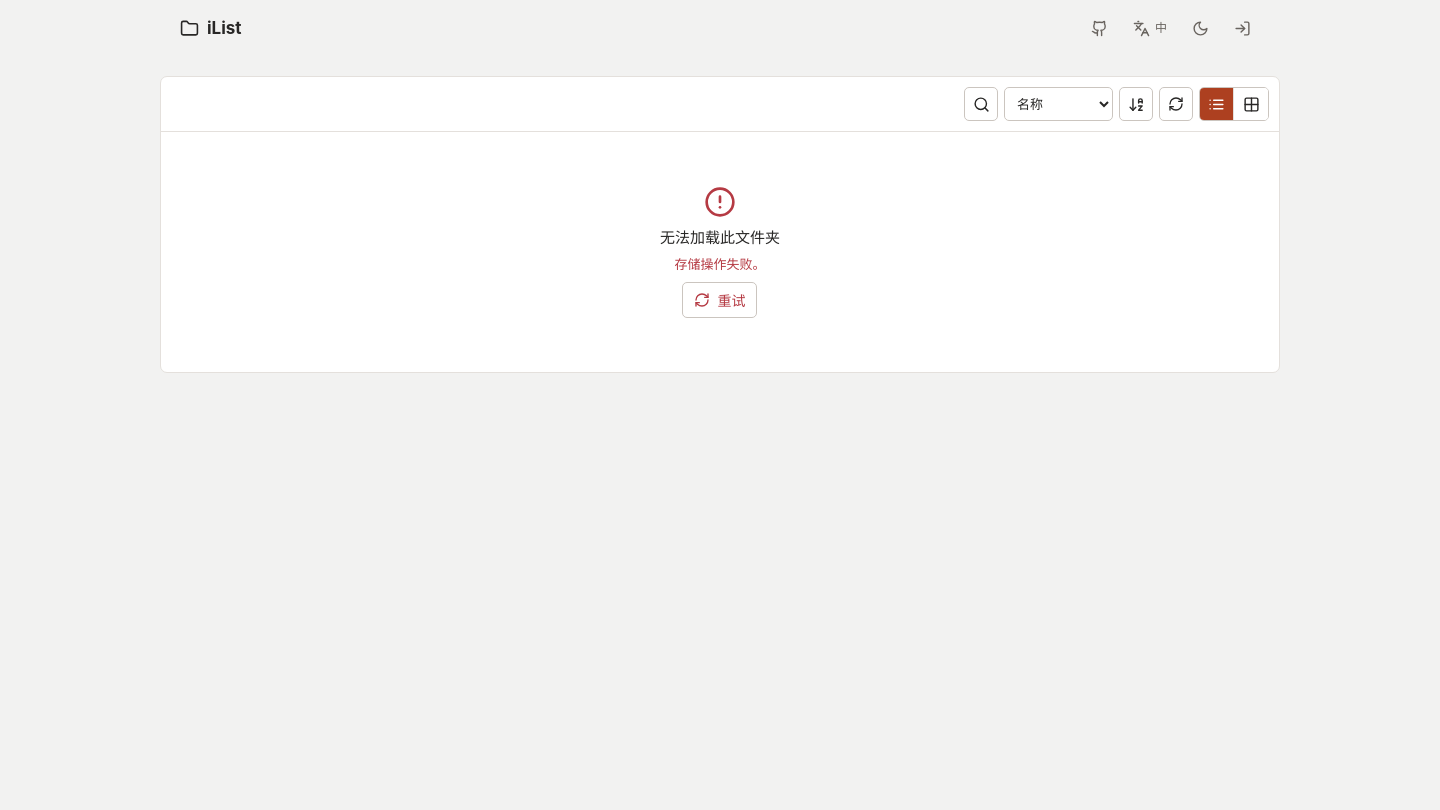
Test: page states and feedback › localizes directory and login API failures without exposing server messages
The width and height of the screenshot is (1440, 810).
Check: the text "存储操作失败。" is shown, box [674,255,766,274]
Click the button named "管理员登录" at (1242, 28), box [1224,10,1260,46]
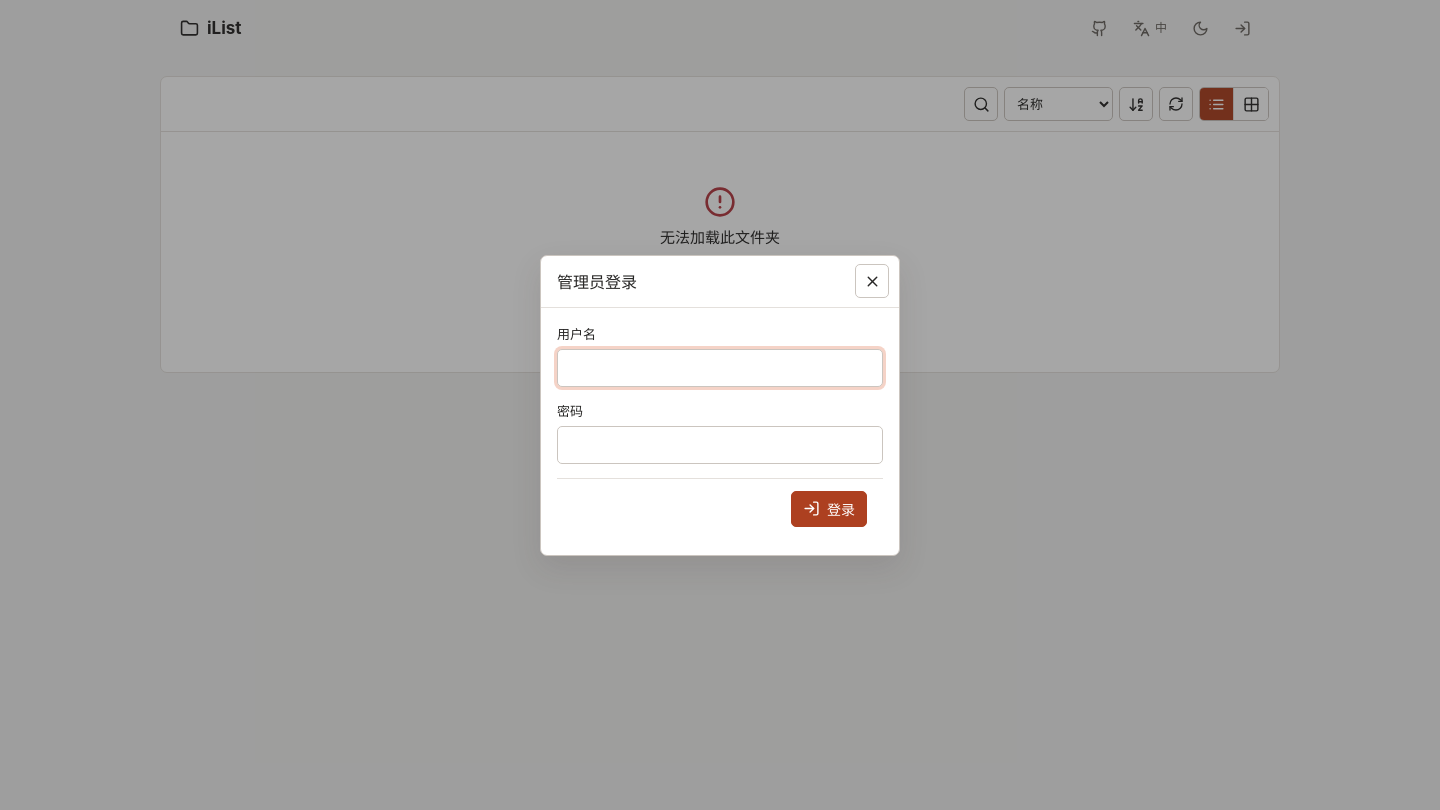
Type "admin" into the field labelled "用户名" at (720, 368), box [557,348,883,386]
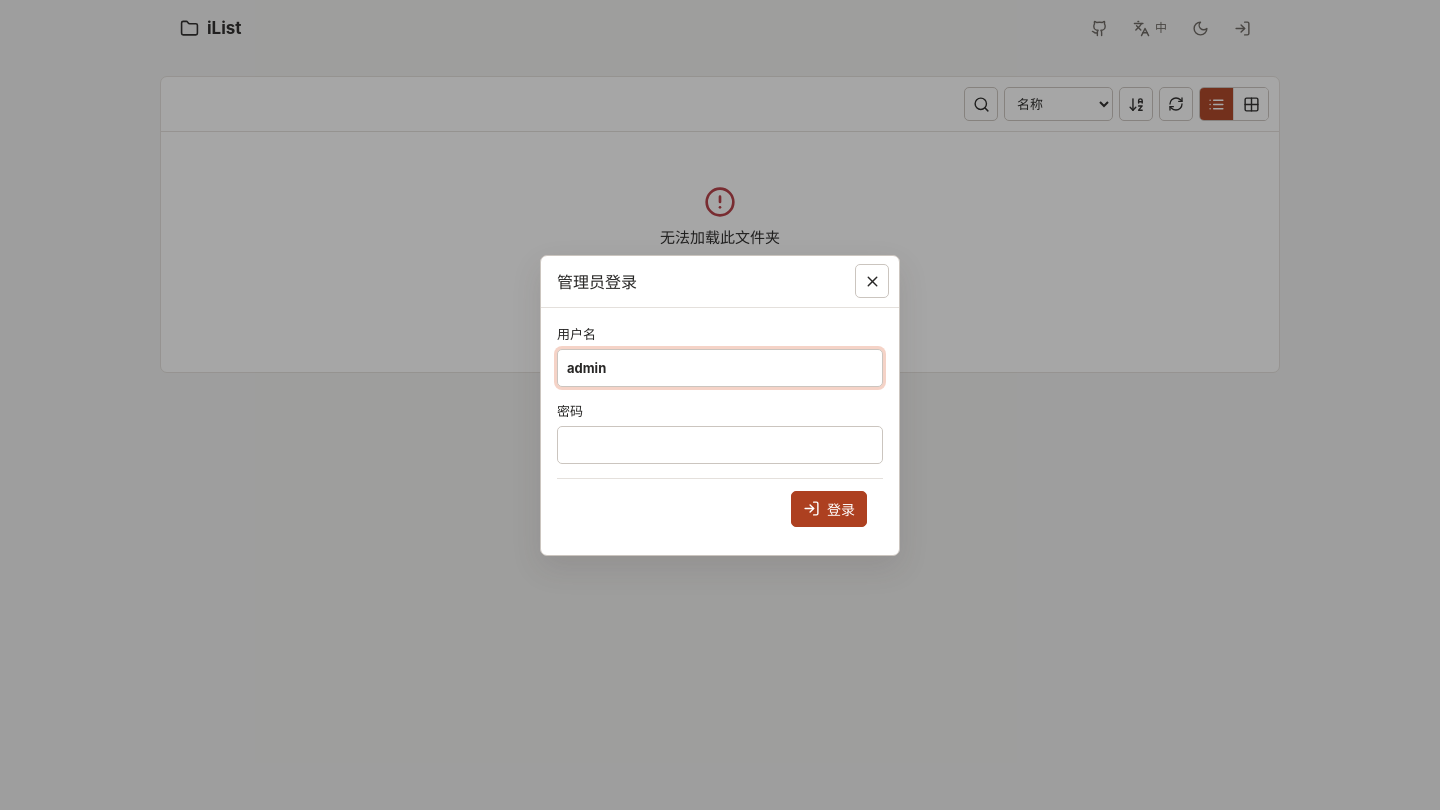
Type "bad" into the password field labelled "密码" at (720, 444), box [557,426,883,464]
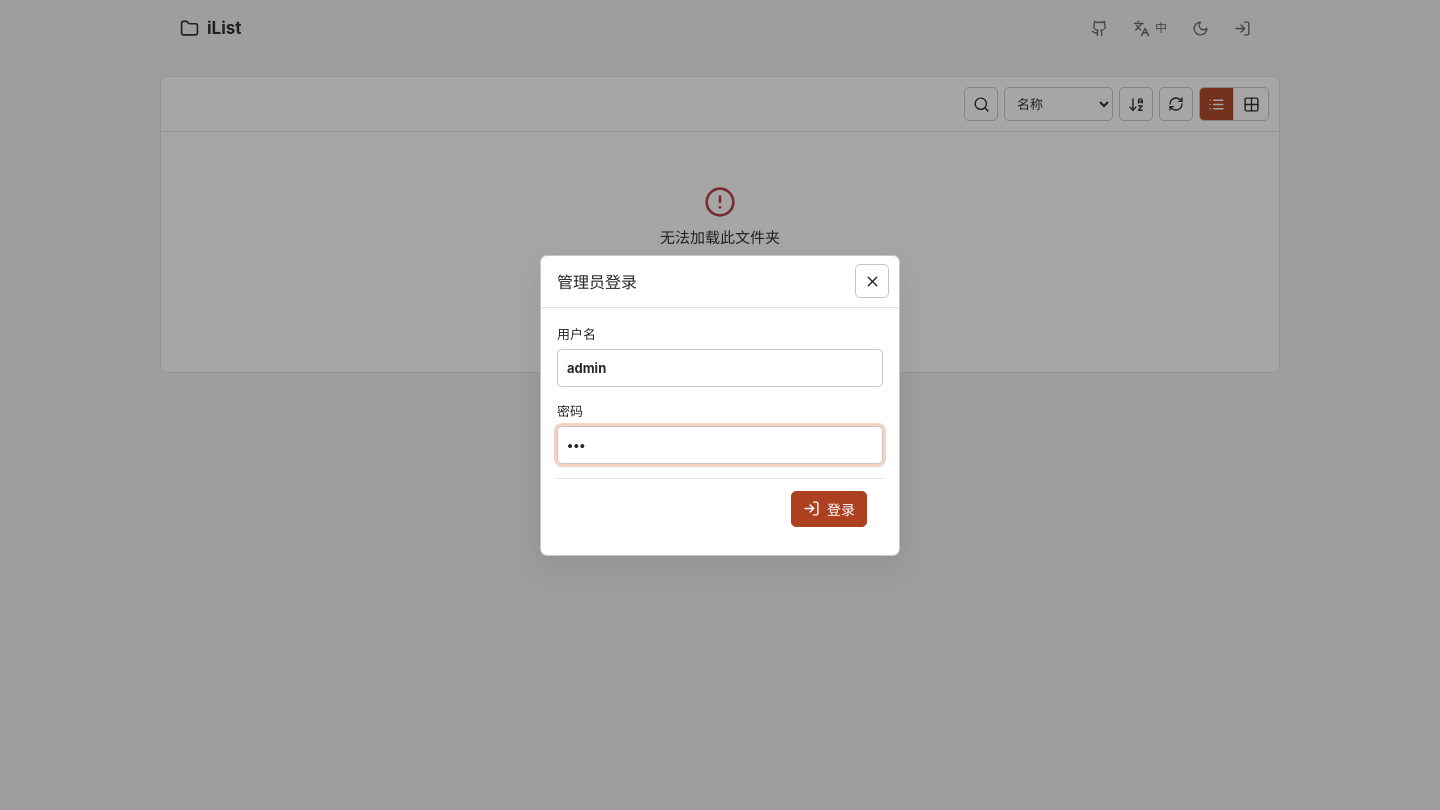
Click the button "登录" at (829, 508), box [791,490,867,526]
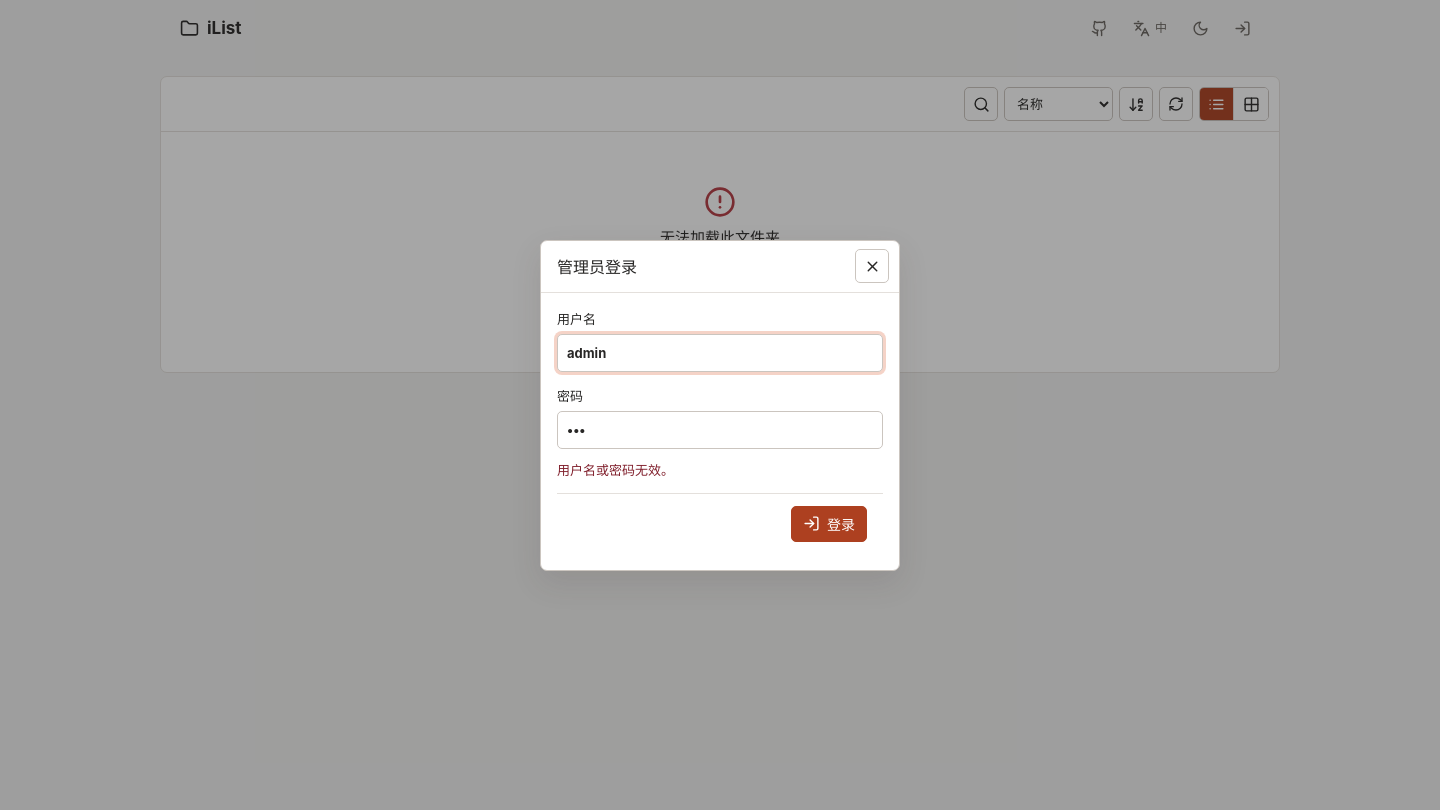
Check: the text "用户名或密码无效。" is shown, box [557,462,674,478]
